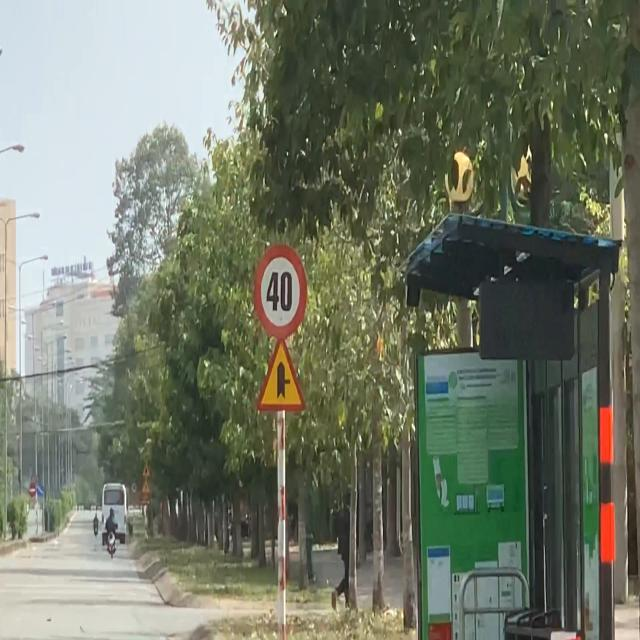Cam nguoc chieu: (28, 482, 36, 497)
Giao voi duong khong uu tien: (257, 337, 306, 411)
Hieu lenh: (36, 482, 45, 498)
Toc do toi da: (253, 243, 307, 339)
